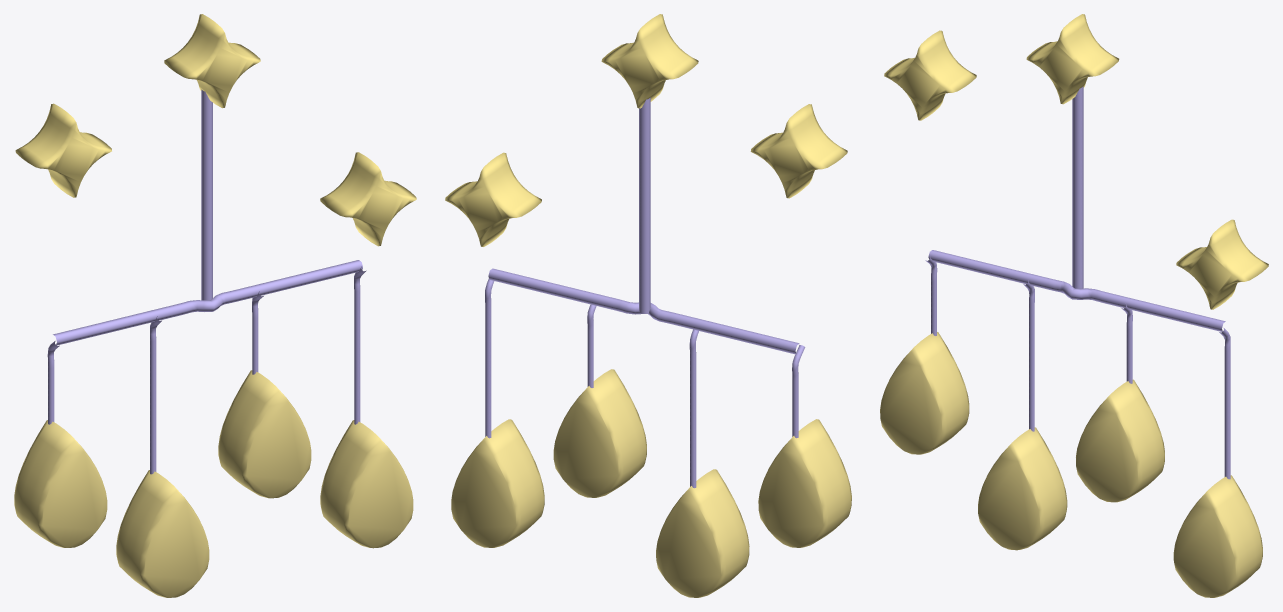
Rendered from decor_4_star.glb.
The picture shows the model from 3 angles, left to right: view 1: azimuth 30°, elevation 25°; view 2: azimuth 150°, elevation 25°; view 3: azimuth 330°, elevation 25°; orthographic projection. The views are drawn at different scales.
Parts seen in each view (by area): view 1: decor_4_star; view 2: decor_4_star; view 3: decor_4_star.
Boxes of the visible parts, box(x1,y1,x2,y2) form: decor_4_star: box(14, 14, 416, 597); decor_4_star: box(445, 14, 851, 597); decor_4_star: box(880, 14, 1268, 597).
Size of the model in its own units: 7.52 by 10.42 by 0.9537.
